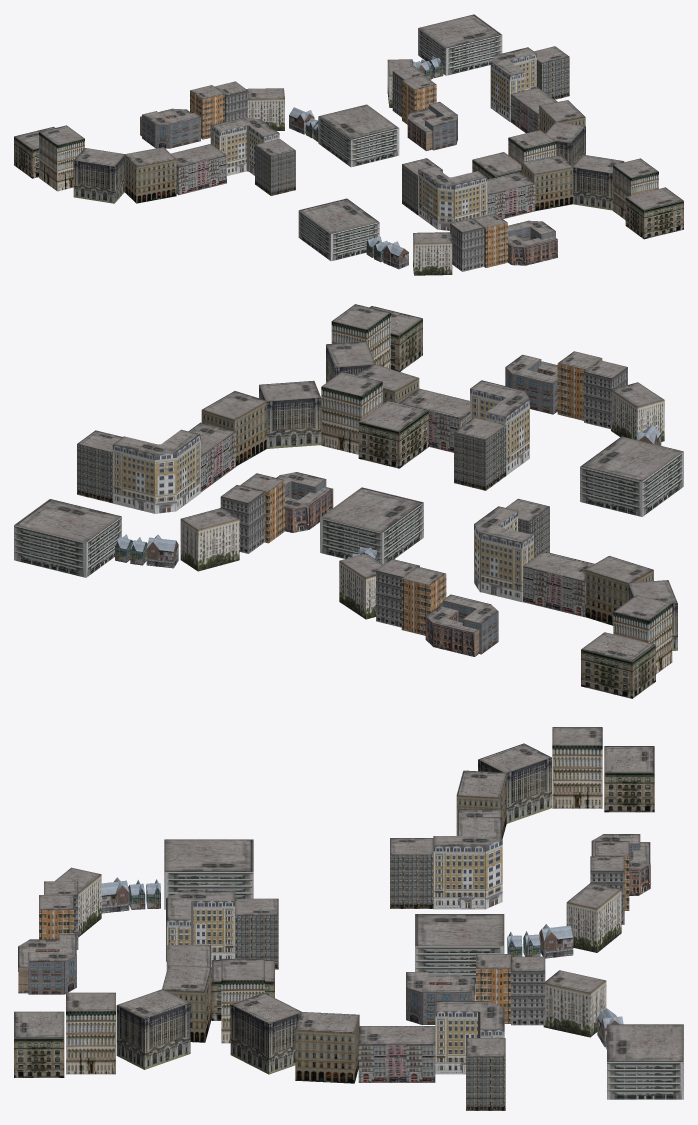
File: The_City0.obj
3 views of the same model, one above another, from view 1: azimuth 30°, elevation 25°; view 2: azimuth 150°, elevation 25°; view 3: azimuth 270°, elevation 25° (orthographic). The views are drawn at different scales.
Visible parts, largest first — view 1: city0; view 2: city0; view 3: city0.
Part boxes in pixels (<box>): city0: <box>14,14,683,275</box>; city0: <box>14,304,683,698</box>; city0: <box>14,727,683,1110</box>.
Bounding box in the file's own units: 1842 × 168 × 1599.
